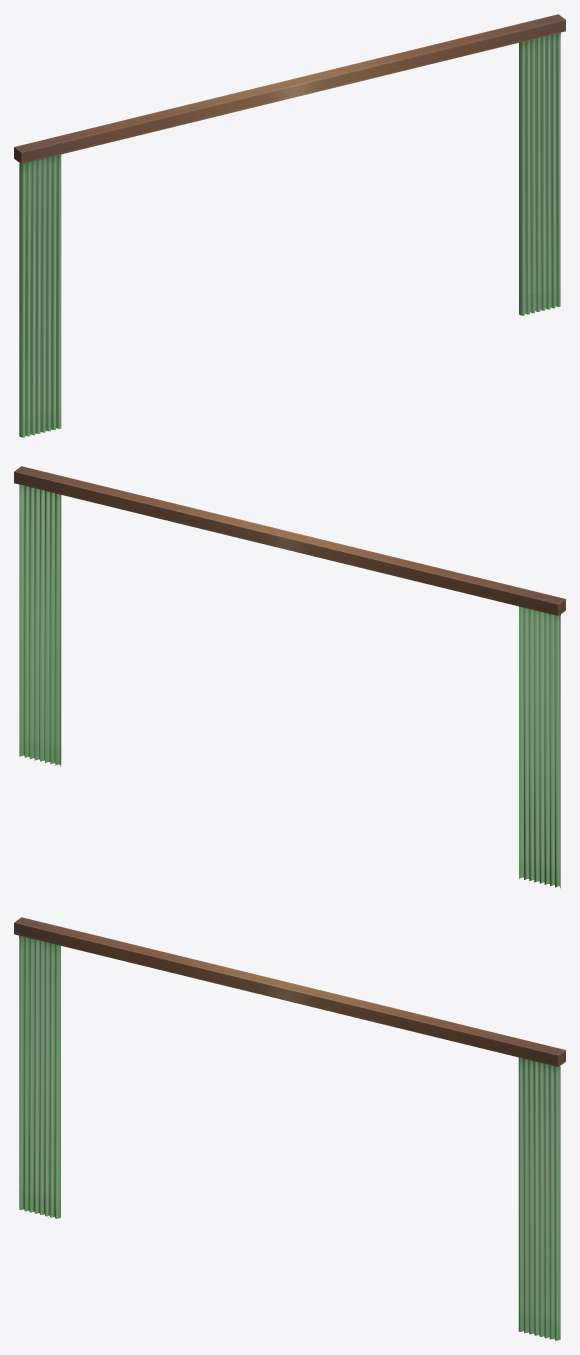
Rendered from Curtain_01_01.fbx.
The picture shows the model from 3 angles, top to bottom: view 1: azimuth 30°, elevation 25°; view 2: azimuth 150°, elevation 25°; view 3: azimuth 330°, elevation 25°; orthographic projection.
Parts seen in each view (by area): view 1: curtain_L, curtain_R, curtain_rail; view 2: curtain_R, curtain_L, curtain_rail; view 3: curtain_R, curtain_L, curtain_rail.
Boxes of the visible parts, x1,y1,x2,y2 form: curtain_L: (19, 154, 61, 437); curtain_R: (519, 32, 560, 315); curtain_rail: (14, 14, 565, 163); curtain_R: (19, 484, 61, 766); curtain_L: (519, 606, 560, 888); curtain_rail: (14, 466, 565, 615); curtain_R: (518, 1057, 560, 1340); curtain_L: (19, 935, 60, 1218); curtain_rail: (14, 917, 565, 1066).
Bounding box in the file's own units: 385 × 194 × 9.2.
